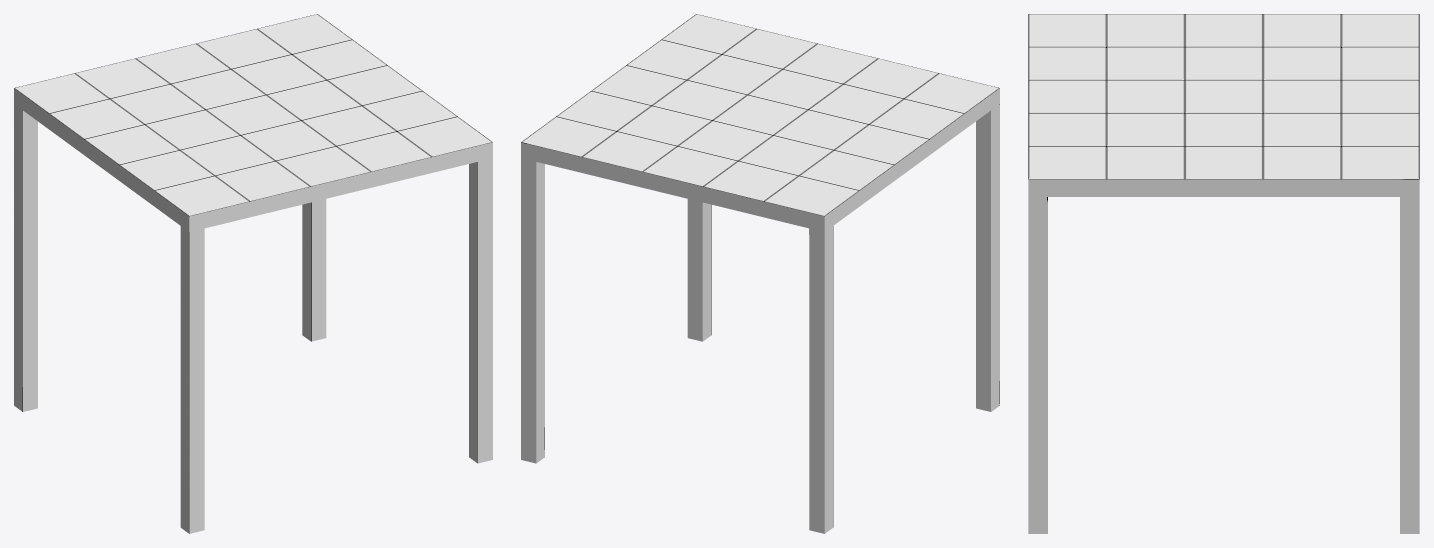
The model's file is Scaffold.gltf.
3 renders of one model, left to right at view 1: azimuth 30°, elevation 25°; view 2: azimuth 150°, elevation 25°; view 3: azimuth 270°, elevation 25°, orthographic. The views are drawn at different scales.
Visible parts, largest first — view 1: 立方体, 立方体.003, 立方体.002, 立方体.004, 立方体.001; view 2: 立方体, 立方体.004, 立方体.001, 立方体.003, 立方体.002; view 3: 立方体, 立方体.001, 立方体.002.
Part boxes in pixels (<box>): 立方体: <box>14,14,492,231</box>; 立方体.003: <box>180,226,204,533</box>; 立方体.002: <box>469,158,492,463</box>; 立方体.004: <box>14,104,37,411</box>; 立方体.001: <box>302,199,326,341</box>; 立方体: <box>521,14,999,231</box>; 立方体.004: <box>809,226,833,533</box>; 立方体.001: <box>521,158,544,463</box>; 立方体.003: <box>976,104,999,411</box>; 立方体.002: <box>687,199,711,341</box>; 立方体: <box>1028,14,1419,196</box>; 立方体.001: <box>1400,197,1419,533</box>; 立方体.002: <box>1028,197,1047,533</box>.
Bounding box in the file's own units: 4 × 4 × 4.
Materials: 4 (4 with a texture image).
